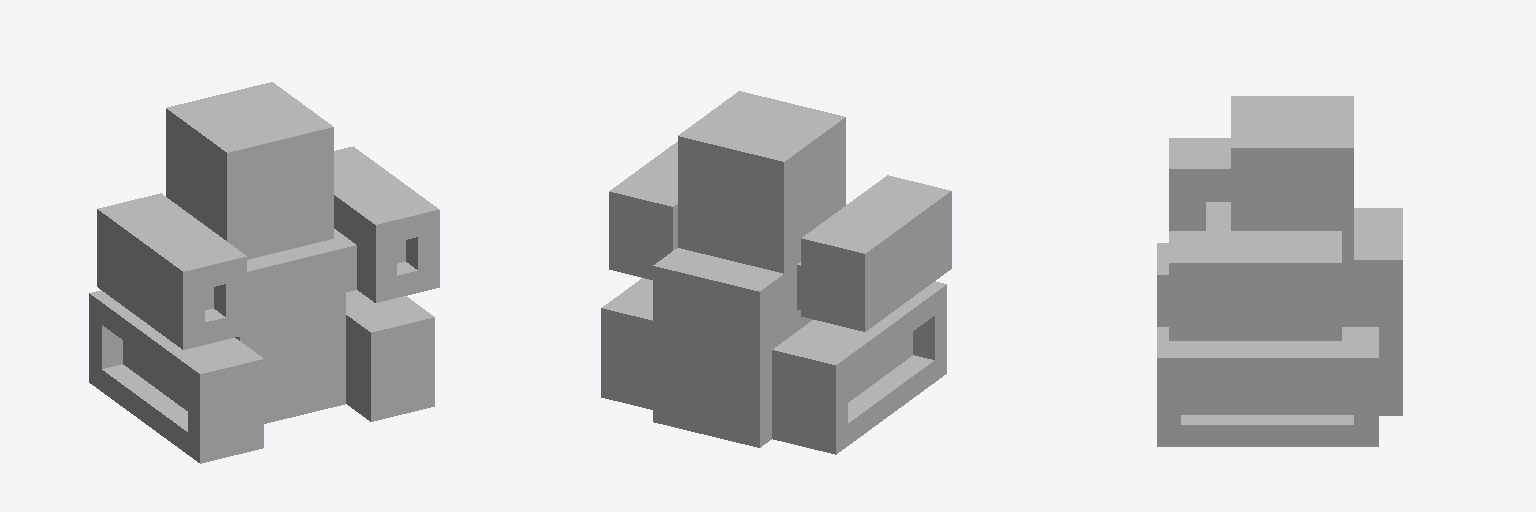
Rendered from tracked robot shooter.obj.
3 views of the same model, side by side, from view 1: azimuth 30°, elevation 25°; view 2: azimuth 150°, elevation 25°; view 3: azimuth 270°, elevation 25° (orthographic).
Size of the model in its own units: 24 by 24 by 20.